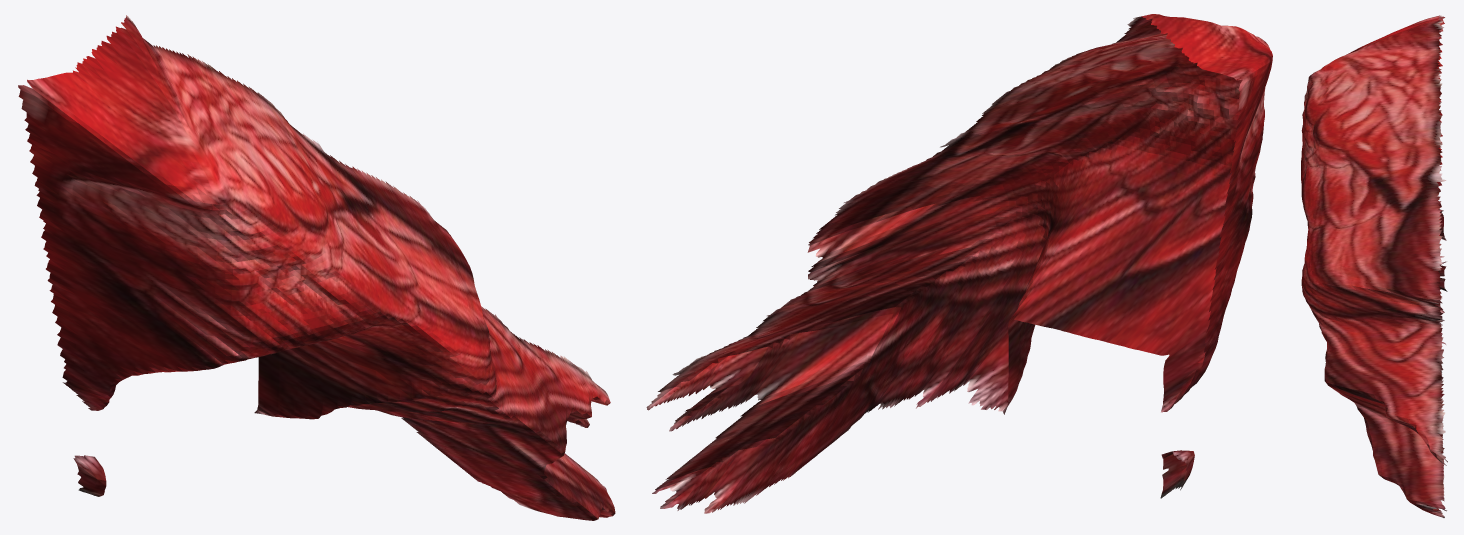
The model's file is wing_ventral.obj.
3 views of the same model, side by side, from view 1: azimuth 30°, elevation 25°; view 2: azimuth 150°, elevation 25°; view 3: azimuth 270°, elevation 25° (orthographic). The views are drawn at different scales.
Parts seen in each view (by area): view 1: wing_ventral; view 2: wing_ventral; view 3: wing_ventral.
Part boxes in pixels (x1,y1,x2,y2): wing_ventral: [18, 15, 615, 520]; wing_ventral: [646, 14, 1272, 513]; wing_ventral: [1301, 15, 1447, 517].
Bounding box in the file's own units: 1.16 × 1.15 × 0.4269.
1 material, 1 textured.
